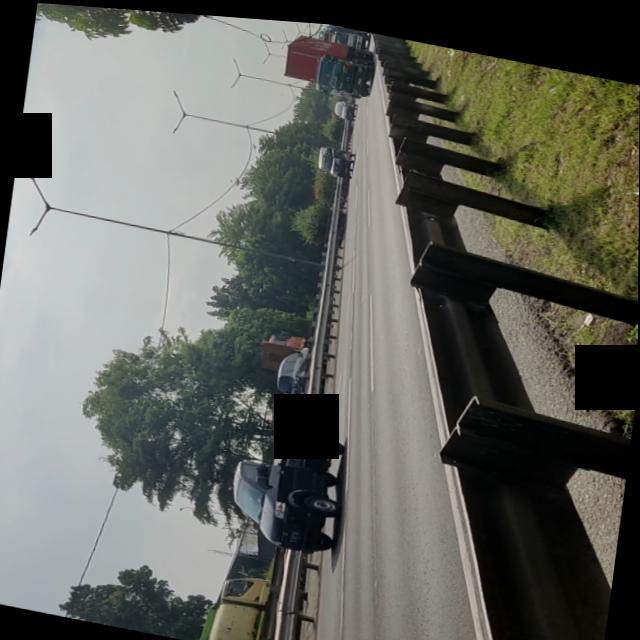Golongan I: (217, 398, 360, 557)
